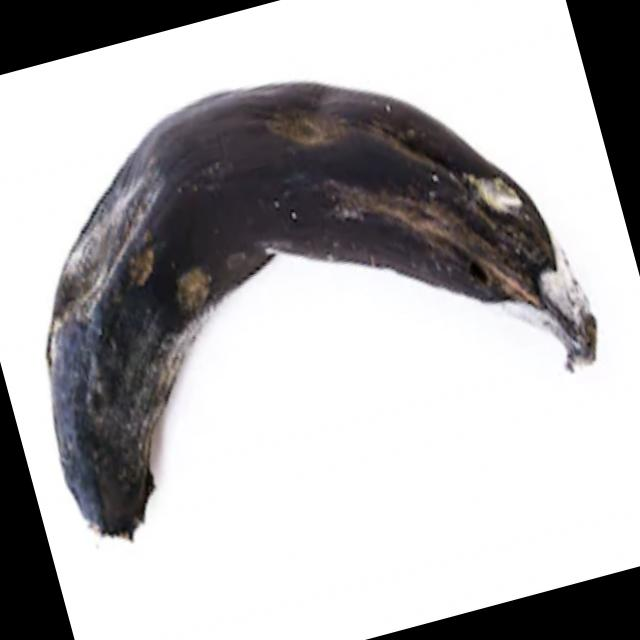rotten-banana: (0, 14, 625, 584)
